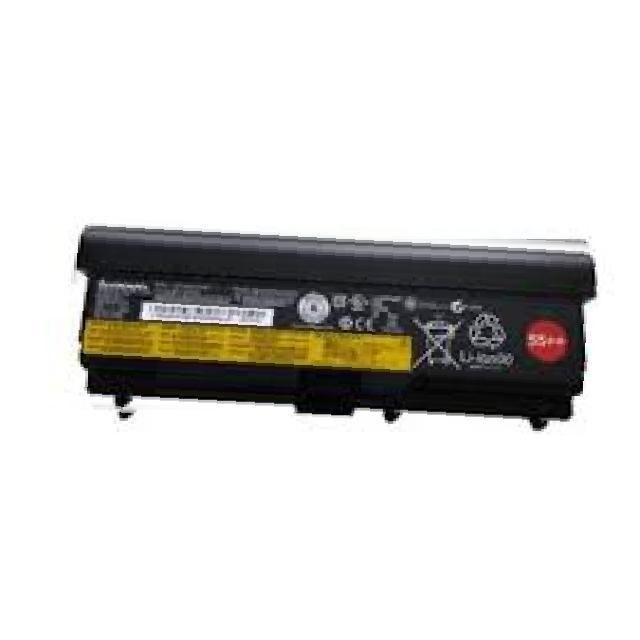Battery: (49, 198, 617, 458)
